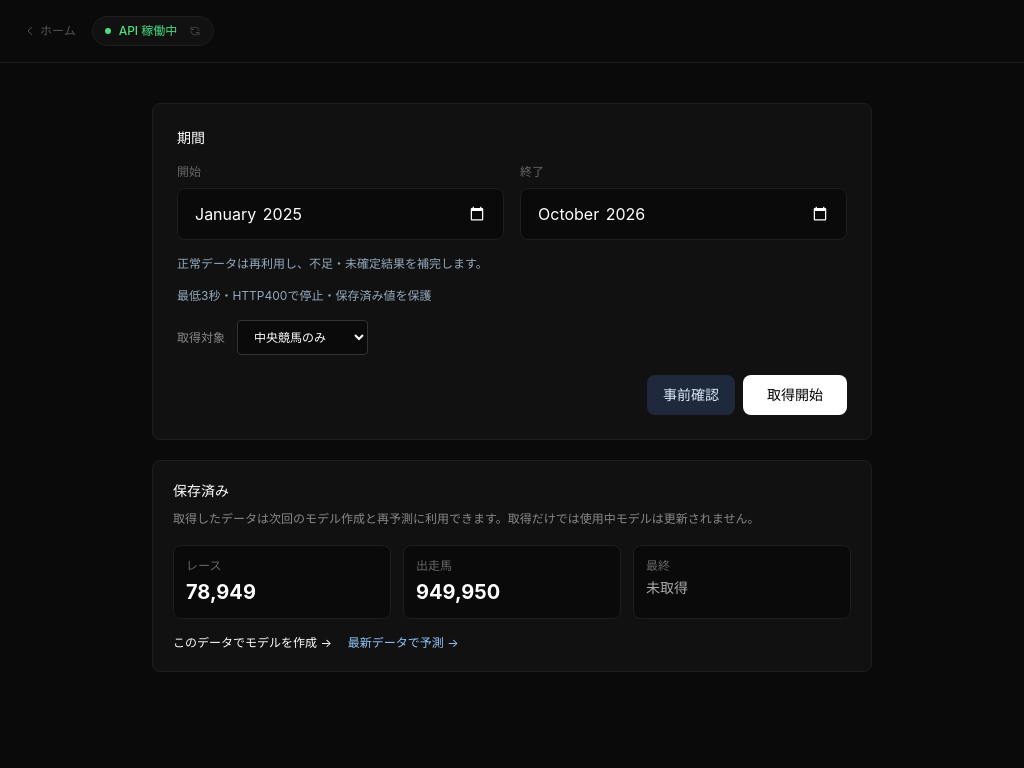
Test case: collection acquisition-only presentation › rechecks the safety policy immediately before starting jra
Expected: the button with test id "execute-button" is enabled, [743, 375, 847, 415]
Select "中央競馬のみ" in the dropdown with test id "scrape-race-scope" at coordinates (302, 338), box [237, 320, 368, 355]
Click the button with test id "execute-button" at coordinates (795, 395), box [743, 375, 847, 415]
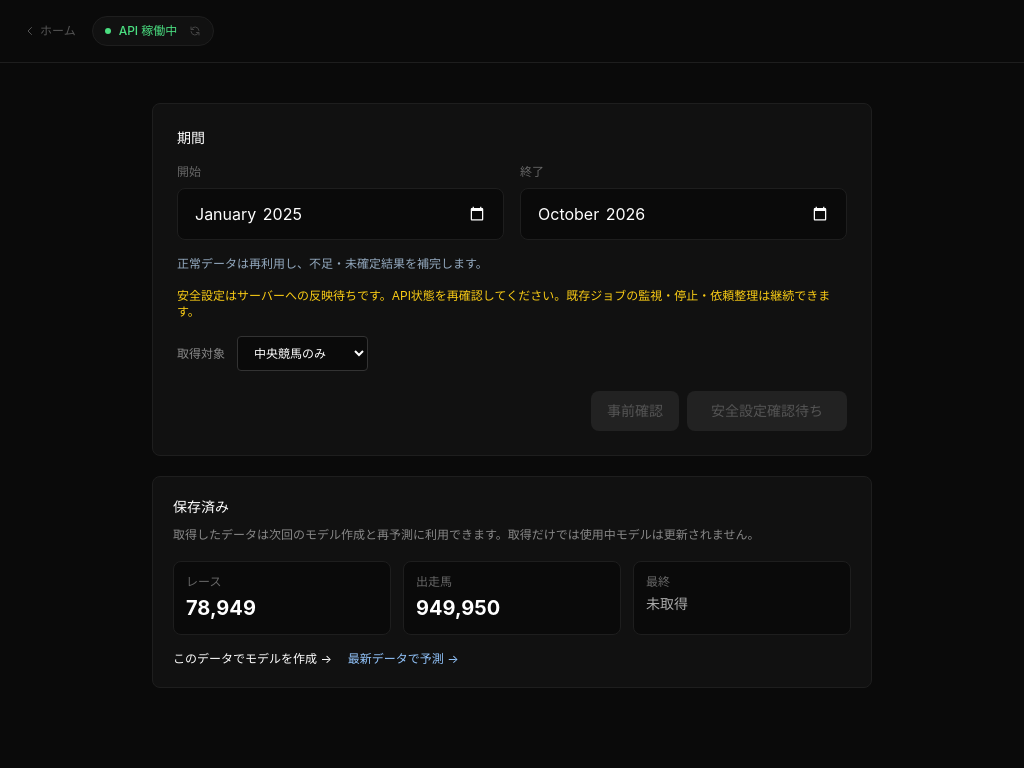
Expected: the message with test id "scrape-safety-policy" shows "反映待ち", [177, 288, 830, 319]
Expected: the button with test id "execute-button" is disabled, [687, 391, 847, 431]
